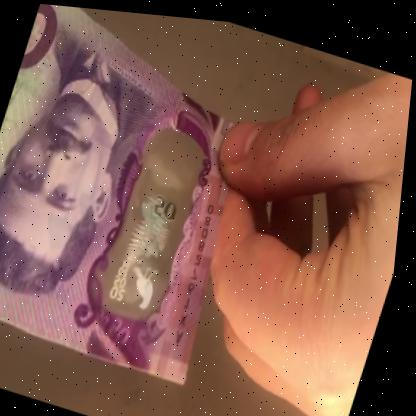50F: (106, 134, 204, 320)
